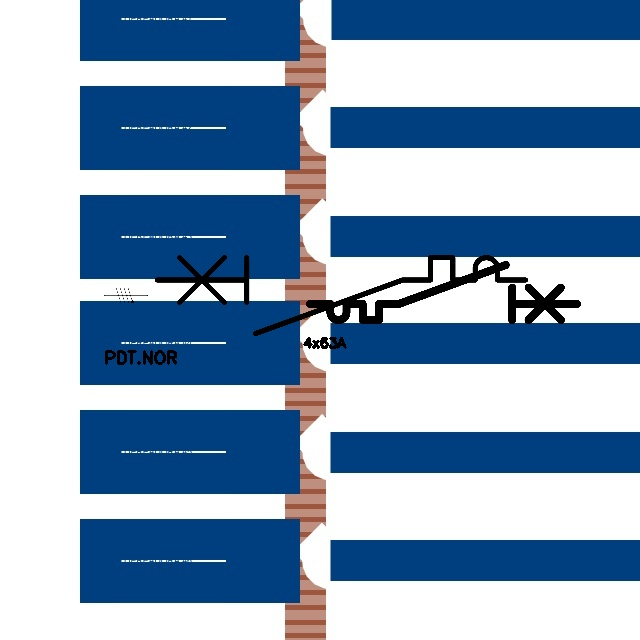interruptor_termomagnetico: (147, 248, 534, 342), (303, 258, 584, 327)
